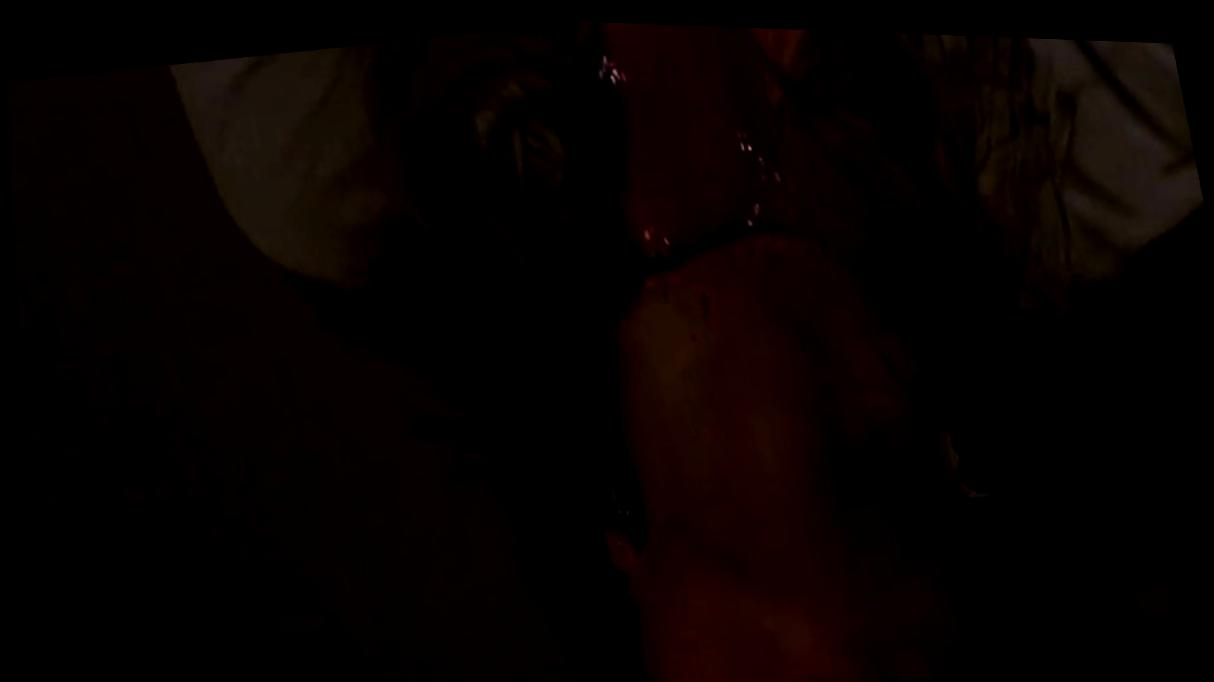Fire: (593, 17, 916, 384)
